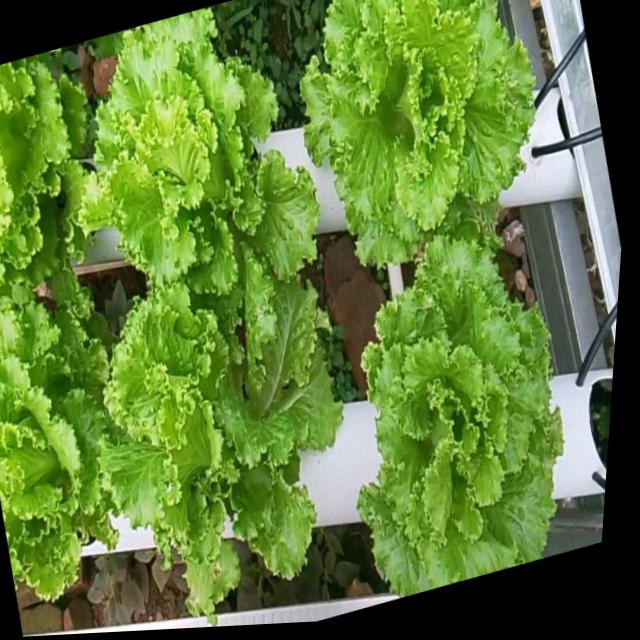Mature: (94, 287, 335, 625), (350, 227, 553, 599), (81, 12, 309, 325), (290, 0, 522, 270), (0, 316, 109, 614), (0, 57, 75, 313)
